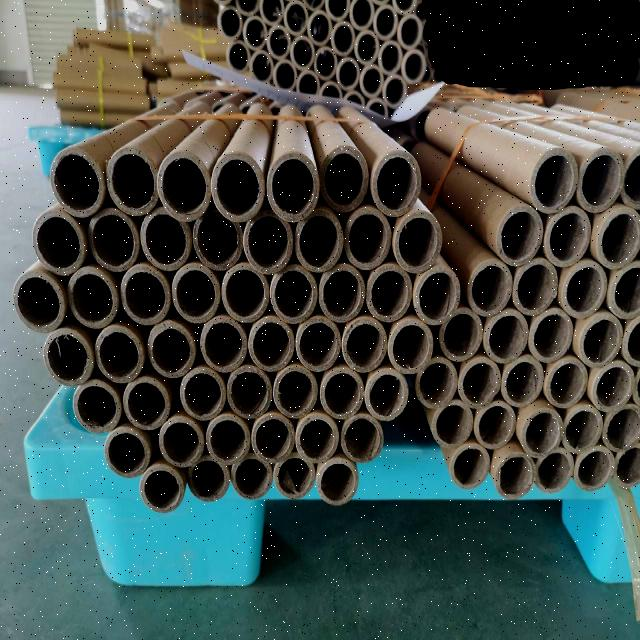pipe: (266, 149, 320, 223), (212, 153, 266, 221), (51, 146, 103, 216), (107, 146, 159, 214), (371, 148, 422, 216), (88, 206, 140, 272), (140, 206, 192, 272), (320, 143, 368, 213), (33, 210, 85, 274), (171, 259, 221, 325), (530, 148, 580, 214), (243, 211, 294, 275), (344, 203, 392, 270), (578, 146, 625, 214), (295, 206, 343, 272), (15, 270, 64, 334), (121, 262, 171, 324), (68, 266, 118, 328), (194, 208, 244, 270), (544, 203, 592, 267), (395, 210, 444, 272), (94, 324, 144, 384), (44, 326, 93, 386), (319, 263, 367, 323), (270, 263, 318, 323), (496, 206, 544, 266), (222, 259, 268, 321), (199, 314, 247, 372), (415, 266, 461, 326), (367, 260, 413, 320), (562, 258, 608, 318), (147, 321, 195, 378), (73, 378, 121, 434), (529, 306, 575, 364), (468, 258, 514, 316), (272, 364, 320, 419), (181, 365, 227, 421), (249, 314, 295, 370), (296, 316, 342, 372), (388, 318, 434, 374), (484, 307, 530, 363), (514, 258, 558, 316), (105, 425, 152, 479), (597, 208, 640, 266), (227, 366, 273, 420), (124, 376, 170, 430), (343, 316, 387, 372), (440, 305, 484, 361), (580, 312, 624, 368), (364, 368, 410, 421), (206, 414, 252, 466), (320, 368, 366, 420), (501, 353, 545, 407), (159, 416, 205, 466), (296, 412, 340, 464), (187, 452, 231, 502), (140, 462, 184, 512), (341, 412, 385, 462), (432, 398, 476, 448), (473, 400, 517, 450), (546, 358, 590, 408), (317, 456, 359, 508), (562, 403, 604, 455), (459, 356, 501, 408), (416, 355, 458, 407), (252, 413, 294, 463), (594, 360, 634, 412), (231, 451, 273, 499), (450, 442, 490, 492), (522, 408, 562, 458), (274, 452, 316, 499), (575, 444, 615, 492), (496, 452, 536, 499), (610, 259, 640, 321), (602, 406, 640, 454), (536, 447, 574, 492), (614, 443, 640, 489), (621, 153, 640, 203), (217, 4, 243, 40), (378, 40, 404, 76), (402, 48, 428, 84), (397, 13, 423, 49), (354, 29, 380, 64), (623, 316, 640, 368), (290, 36, 316, 70), (284, 0, 308, 36), (308, 10, 332, 46), (331, 20, 355, 56), (244, 15, 268, 49), (374, 5, 398, 39), (268, 24, 291, 59), (383, 76, 408, 108), (250, 49, 274, 82), (315, 46, 337, 82), (227, 39, 250, 73), (337, 56, 360, 90), (274, 58, 298, 90), (360, 64, 384, 96), (297, 68, 321, 98), (320, 80, 342, 106), (259, 0, 286, 21), (344, 90, 366, 114), (366, 98, 388, 122), (350, 0, 367, 31), (326, 0, 351, 21), (237, 0, 260, 15), (392, 1, 415, 14)
